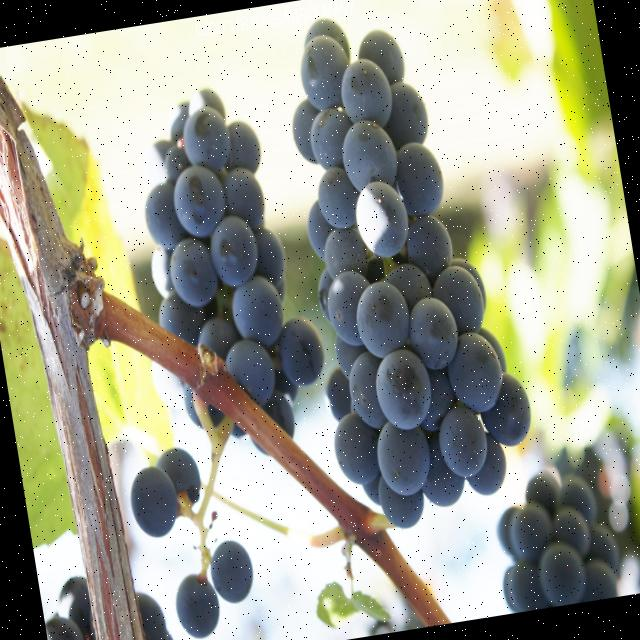grape: (293, 22, 530, 526), (145, 89, 323, 435), (497, 472, 619, 613)
